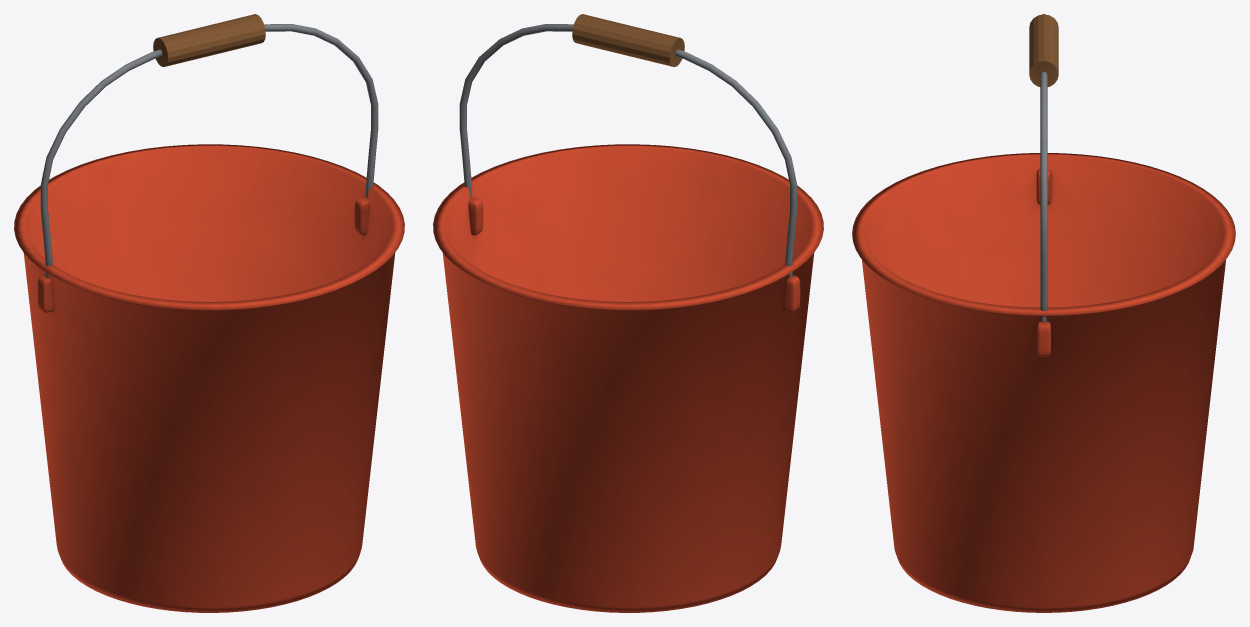
The model's file is plastic-red.glb.
The picture shows the model from 3 angles, left to right: view 1: azimuth 30°, elevation 25°; view 2: azimuth 150°, elevation 25°; view 3: azimuth 270°, elevation 25°; orthographic projection.
Parts seen in each view (by area): view 1: plastic_primary, steel_wire, wood_x; view 2: plastic_primary, steel_wire, wood_x; view 3: plastic_primary, steel_wire, wood_x.
Part boxes in pixels (<box>): plastic_primary: <box>14,144,404,612</box>; steel_wire: <box>40,24,378,277</box>; wood_x: <box>153,14,265,66</box>; plastic_primary: <box>433,144,823,612</box>; steel_wire: <box>459,24,797,277</box>; wood_x: <box>572,14,684,66</box>; plastic_primary: <box>852,153,1235,612</box>; steel_wire: <box>1040,14,1047,322</box>; wood_x: <box>1029,14,1058,86</box>.
Bounding box in the file's own units: 0.312 × 0.46 × 0.312.
Materials: 3 (3 with a texture image).
